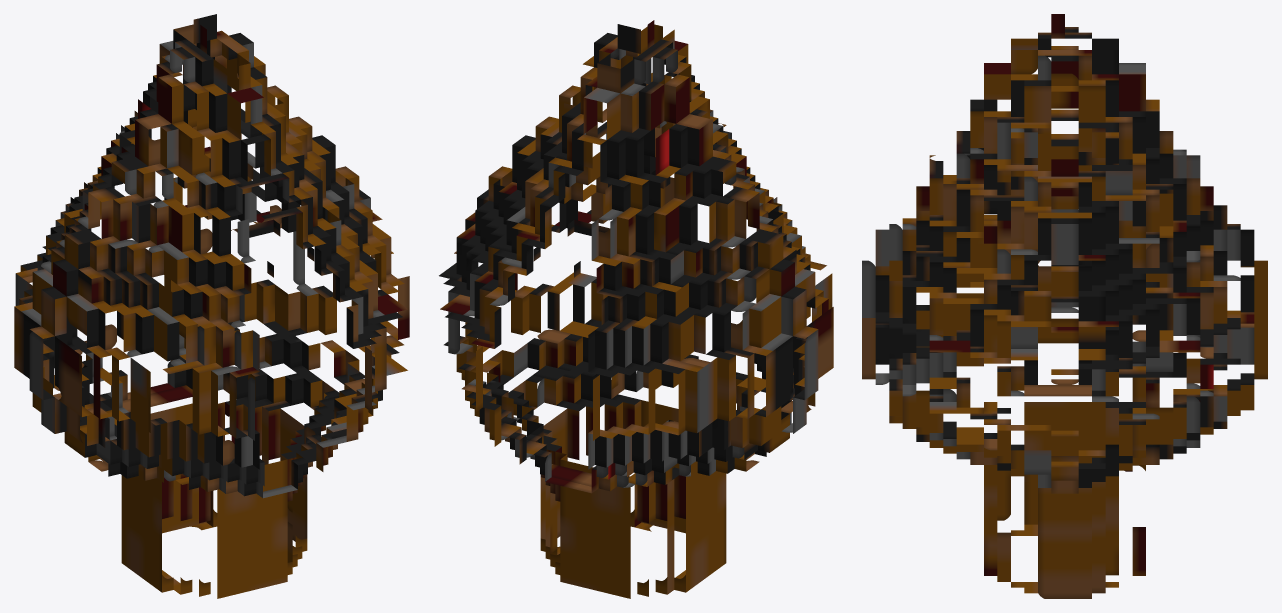
The model's file is Content.obj.
The picture shows the model from 3 angles, left to right: view 1: azimuth 30°, elevation 25°; view 2: azimuth 150°, elevation 25°; view 3: azimuth 270°, elevation 25°; orthographic projection.
Visible parts, largest first — view 1: Model; view 2: Model; view 3: Model.
Boxes of the visible parts, box(x1,y1,x2,y2) form: Model: box(14, 14, 409, 598); Model: box(439, 20, 833, 598); Model: box(862, 14, 1267, 598).
Bounding box in the file's own units: 21.82 × 32 × 21.82.
